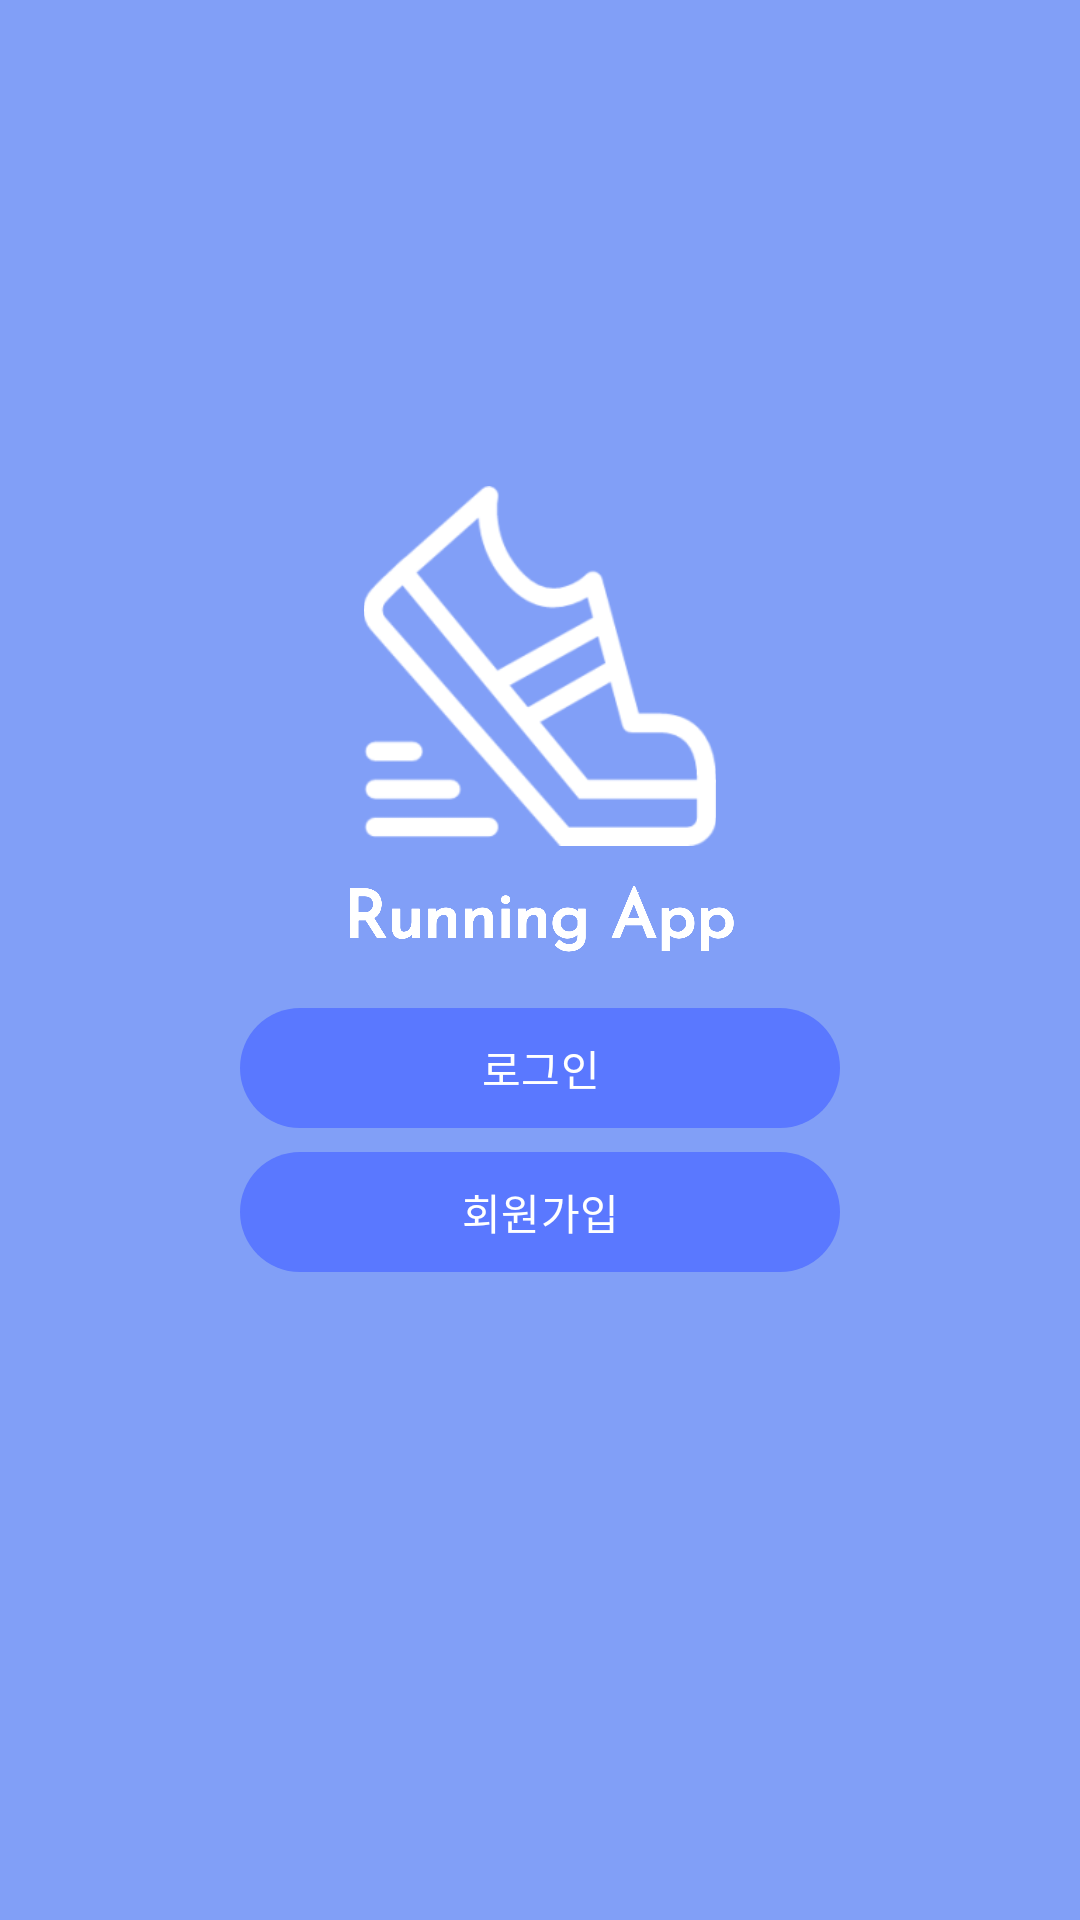

Locate icon controls on the screen. Image size 1080w x 1920h, boxes as (x1, y1, x2, y2).
shoe: (364, 486, 716, 846)
